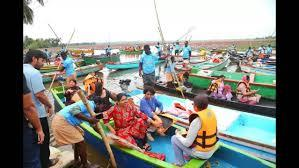fishing boat: (46, 78, 278, 168), (111, 79, 276, 162)
